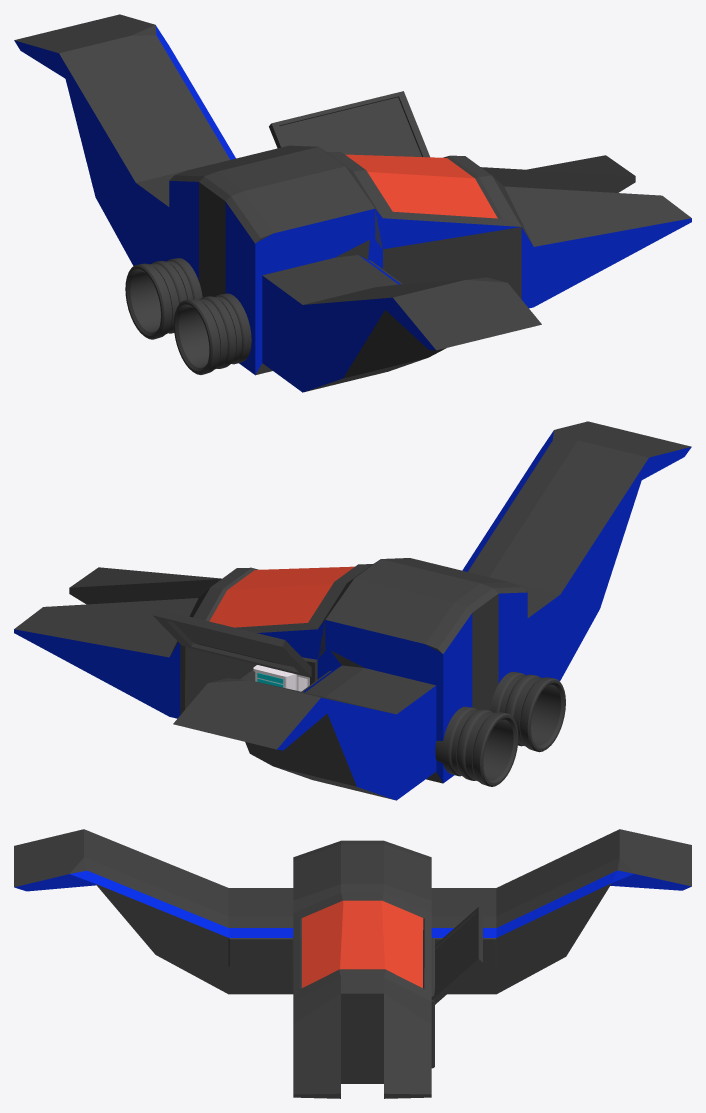
File: SpaceShip.fbx
3 renders of one model, top to bottom at view 1: azimuth 30°, elevation 25°; view 2: azimuth 150°, elevation 25°; view 3: azimuth 270°, elevation 25°, orthographic. The views are drawn at different scales.
Visible parts, largest first — view 1: ship; view 2: ship, table; view 3: ship.
Part boxes in pixels (bbox=[...]): ship: bbox=[14, 14, 691, 392]; ship: bbox=[14, 421, 691, 800]; table: bbox=[253, 665, 309, 691]; ship: bbox=[14, 829, 691, 1098].
Bounding box in the file's own units: 1275 × 471 × 1949.
